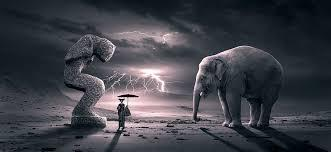elephant: (192, 46, 283, 126)
